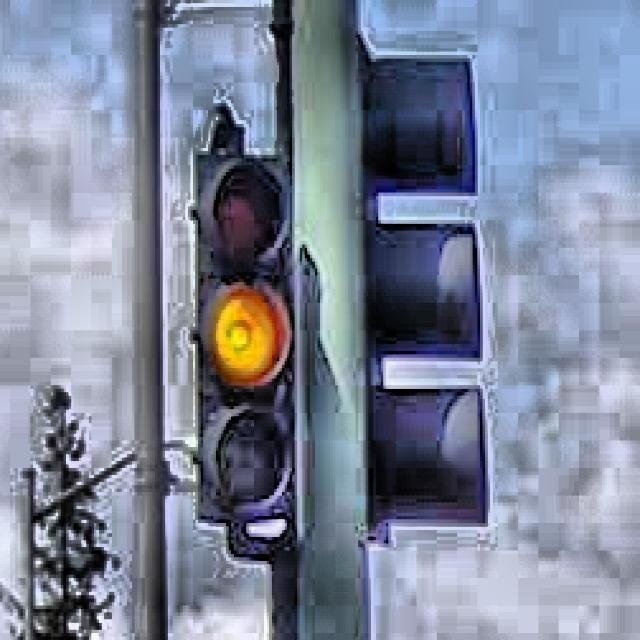yellow: (199, 157, 286, 522)
